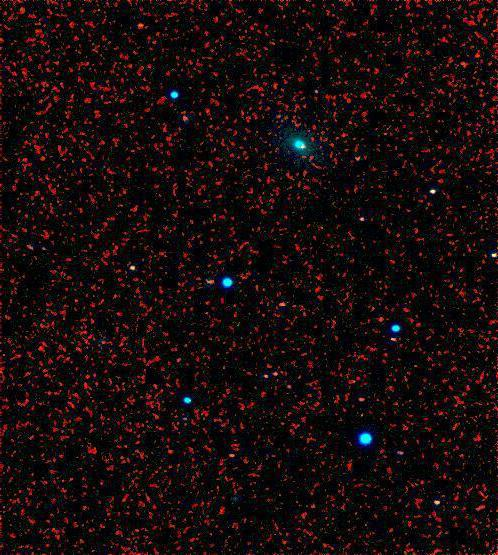star: (125, 10, 155, 40)
